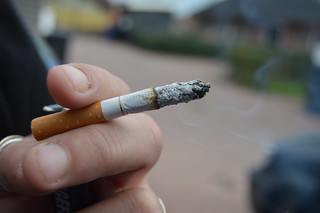cigarette: (28, 79, 212, 141)
